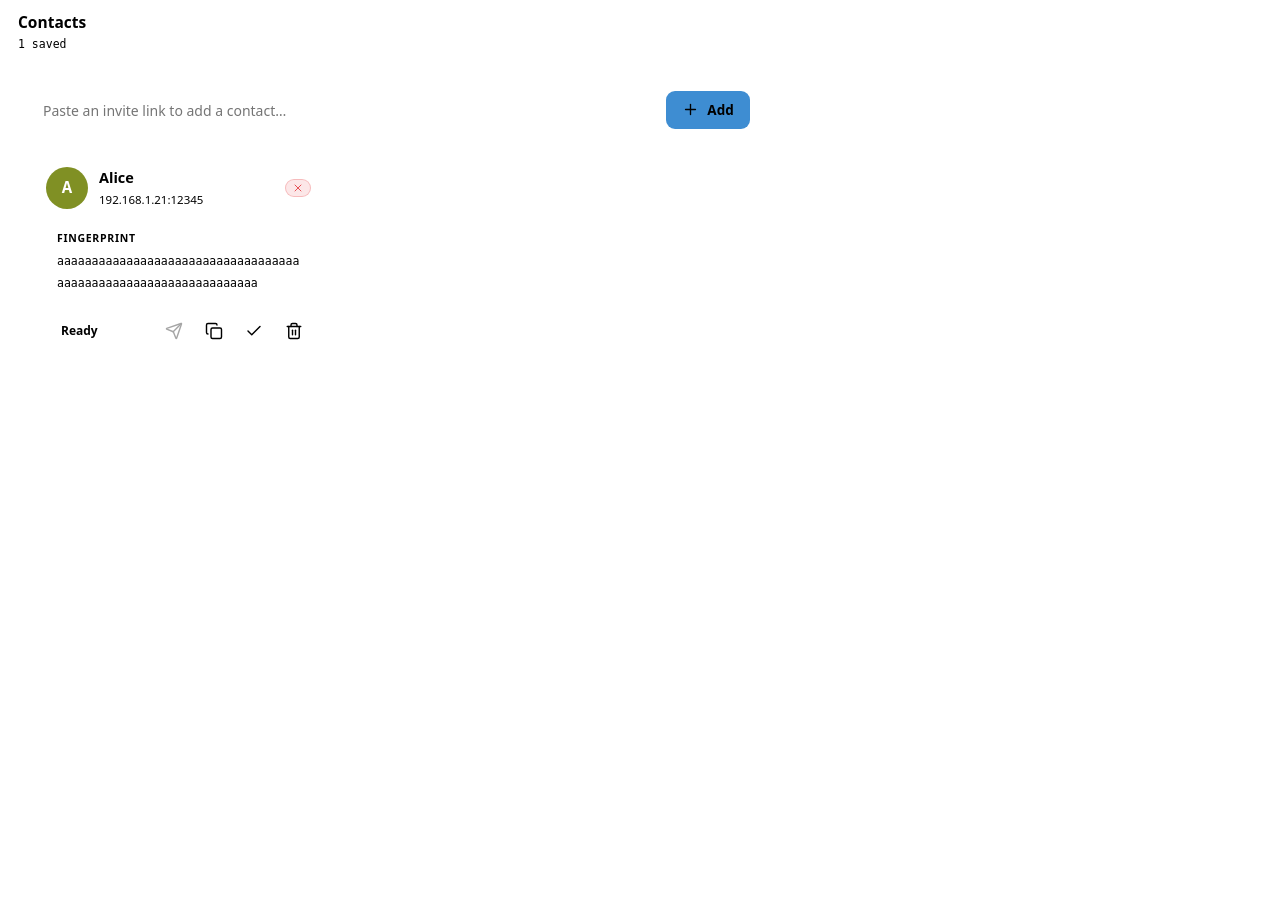
Contacts › warns that deleting a blocked contact lets them back in
Expected: the text "Alice" is shown, [99,167,134,187]
Click the button named "Delete contact": (294, 331) [277,314,311,348]
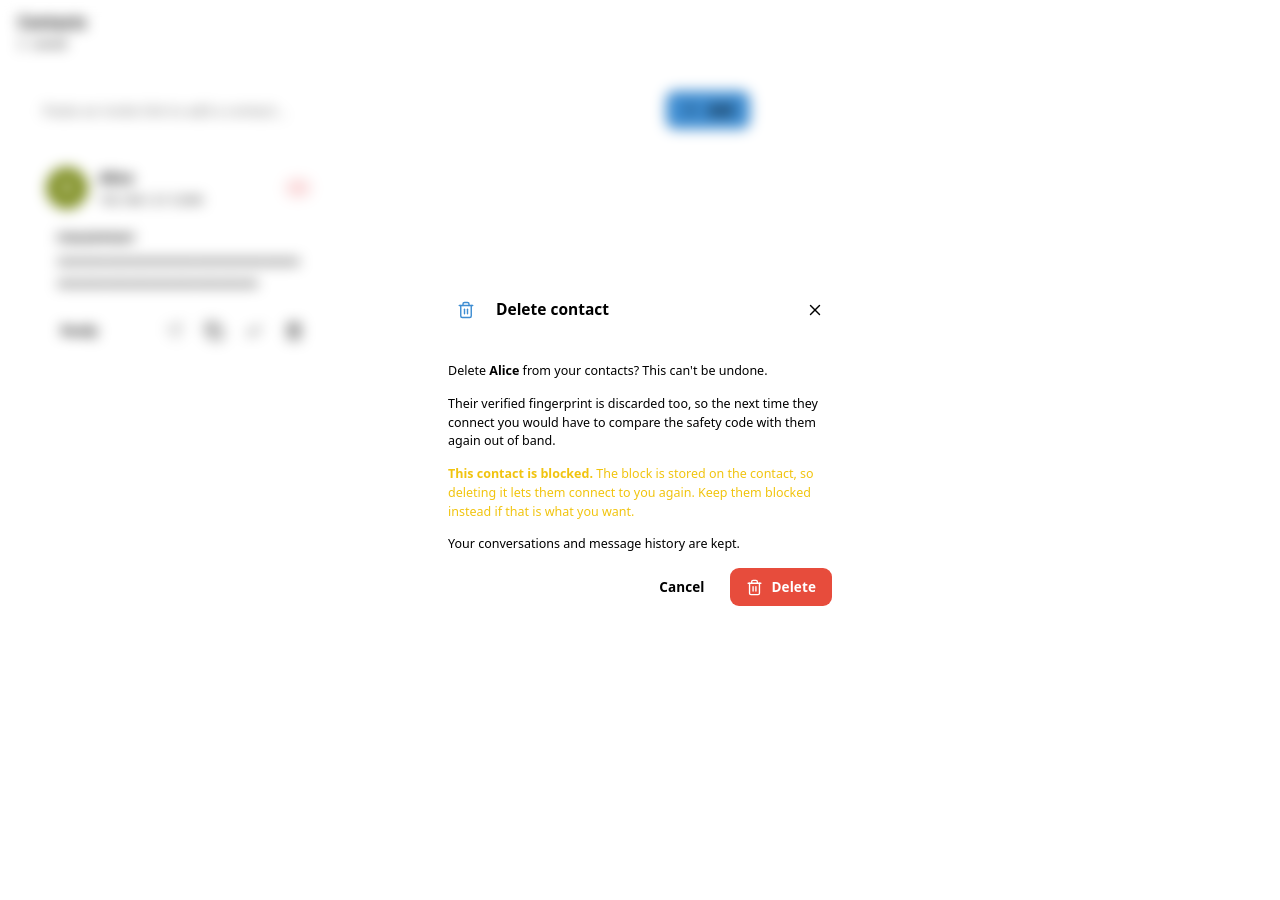
Now the text "lets them connect to you again" is shown, box [448,465,814,520]
